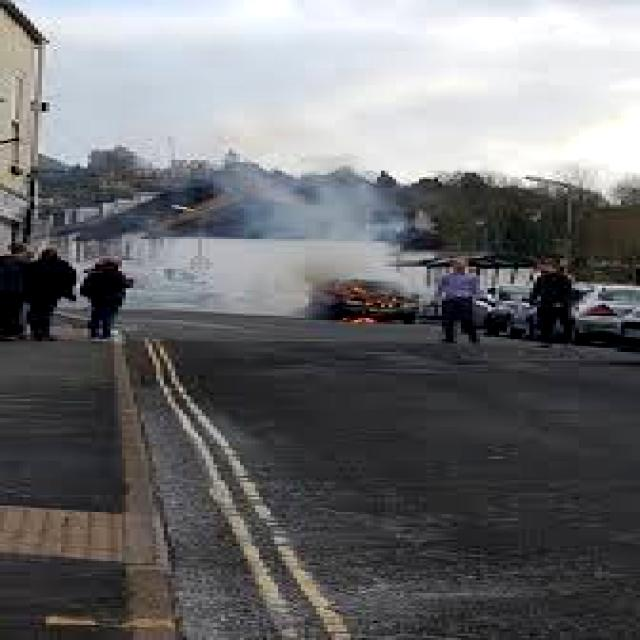no_helmet: (214, 165, 398, 308)
